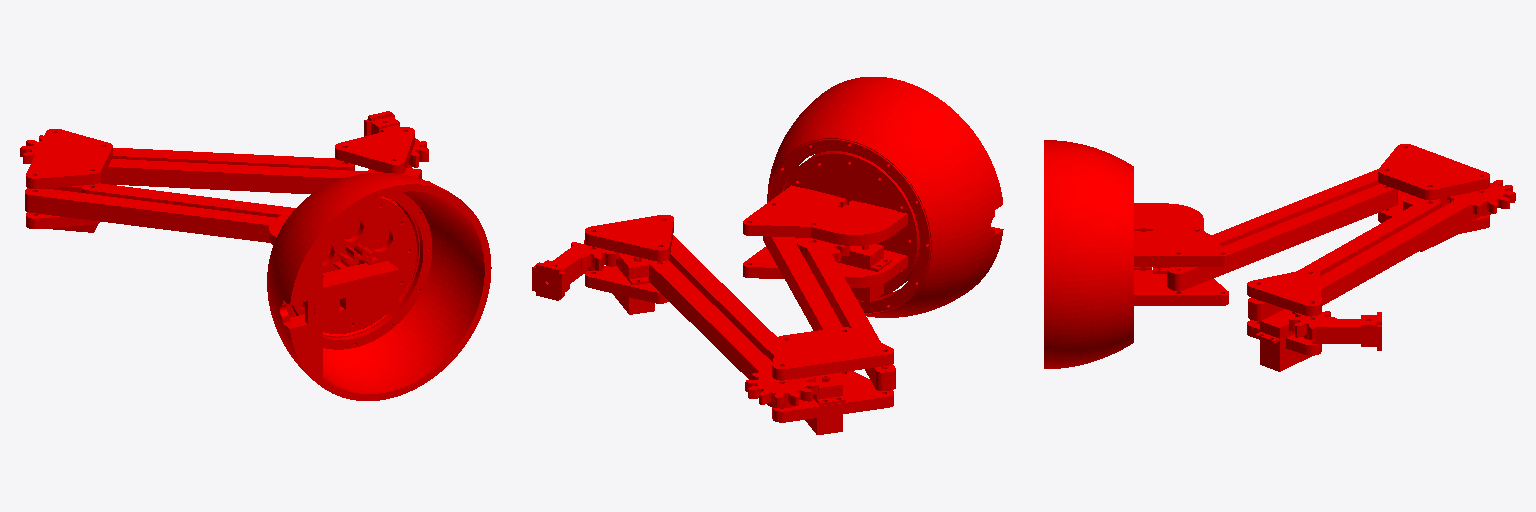
robot.urdf — da_lamp_v2:
<?xml version="1.0" ?>
<robot name="da_lamp_v2">
<link name="base_link">
  <inertial>
    <origin rpy="0 0 0" xyz="0 0 0"/>
    <mass value="0.511483"/>
    <inertia ixx="0.002019" ixy="4.5e-05" ixz="0.0" iyy="0.002695" iyz="0.0" izz="0.002207"/>
  </inertial>
  <visual>
    <origin rpy="0 0 0" xyz="0 0 0"/>
    <geometry>
      <mesh filename="package://da_lamp_description/mesh/base_link.dae"/>
    </geometry>
    <material name="silver">
      <color rgba="1 0 0 1"/>
    </material>
  </visual>
  <collision>
    <origin rpy="0 0 0" xyz="0 0 0"/>
    <geometry>
      <mesh filename="package://da_lamp_description/mesh/base_link.dae"/>
    </geometry>
  </collision>
</link>
<link name="link3__1">
  <inertial>
    <origin rpy="0 0 0" xyz="-0.044 -0.105 -0.0075"/>
    <mass value="0.035859"/>
    <inertia ixx="0.001321" ixy="0.000314" ixz="-0.0" iyy="0.000126" iyz="0.0" izz="0.001445"/>
  </inertial>
  <visual>
    <origin rpy="0 0 0" xyz="-0.044 -0.105 -0.0075"/>
    <geometry>
      <mesh filename="package://da_lamp_description/mesh/link3__1.dae"/>
    </geometry>
    <material name="silver">
      <color rgba="1 0 0 1"/>
    </material>
  </visual>
  <collision>
    <origin rpy="0 0 0" xyz="-0.044 -0.105 -0.0075"/>
    <geometry>
      <mesh filename="package://da_lamp_description/mesh/link3__1.dae"/>
    </geometry>
  </collision>
</link>
<link name="head__1">
  <inertial>
    <origin rpy="0 0 0" xyz="-0.119199 -0.266383 0.0"/>
    <mass value="0.297452"/>
    <inertia ixx="0.026468" ixy="-0.010849" ixz="-0.0" iyy="0.005133" iyz="-0.0" izz="0.031129"/>
  </inertial>
  <visual>
    <origin rpy="0 0 0" xyz="-0.119199 -0.266383 0.0"/>
    <geometry>
      <mesh filename="package://da_lamp_description/mesh/head__1.dae"/>
    </geometry>
    <material name="silver">
      <color rgba="1 0 0 1"/>
    </material>
  </visual>
  <collision>
    <origin rpy="0 0 0" xyz="-0.119199 -0.266383 0.0"/>
    <geometry>
      <mesh filename="package://da_lamp_description/mesh/head__1.dae"/>
    </geometry>
  </collision>
</link>
<link name="link6__1">
  <inertial>
    <origin rpy="0 0 0" xyz="0.083481 -0.299758 -0.0075"/>
    <mass value="0.035859"/>
    <inertia ixx="0.002048" ixy="2e-06" ixz="-0.0" iyy="0.000117" iyz="-0.0" izz="0.002165"/>
  </inertial>
  <visual>
    <origin rpy="0 0 0" xyz="0.083481 -0.299758 -0.0075"/>
    <geometry>
      <mesh filename="package://da_lamp_description/mesh/link6__1.dae"/>
    </geometry>
    <material name="silver">
      <color rgba="1 0 0 1"/>
    </material>
  </visual>
  <collision>
    <origin rpy="0 0 0" xyz="0.083481 -0.299758 -0.0075"/>
    <geometry>
      <mesh filename="package://da_lamp_description/mesh/link6__1.dae"/>
    </geometry>
  </collision>
</link>
<link name="link7__1">
  <inertial>
    <origin rpy="0 0 0" xyz="-0.081596 -0.212074 -0.0075"/>
    <mass value="0.045877"/>
    <inertia ixx="0.001795" ixy="-0.000998" ixz="4.9e-05" iyy="0.000588" iyz="2.9e-05" izz="0.002351"/>
  </inertial>
  <visual>
    <origin rpy="0 0 0" xyz="-0.081596 -0.212074 -0.0075"/>
    <geometry>
      <mesh filename="package://da_lamp_description/mesh/link7__1.dae"/>
    </geometry>
    <material name="silver">
      <color rgba="1 0 0 1"/>
    </material>
  </visual>
  <collision>
    <origin rpy="0 0 0" xyz="-0.081596 -0.212074 -0.0075"/>
    <geometry>
      <mesh filename="package://da_lamp_description/mesh/link7__1.dae"/>
    </geometry>
  </collision>
</link>
<link name="link8__1">
  <inertial>
    <origin rpy="0 0 0" xyz="-0.136642 -0.214208 -0.0075"/>
    <mass value="0.013989"/>
    <inertia ixx="0.000788" ixy="-0.000432" ixz="-1e-06" iyy="0.000242" iyz="-1e-06" izz="0.001029"/>
  </inertial>
  <visual>
    <origin rpy="0 0 0" xyz="-0.136642 -0.214208 -0.0075"/>
    <geometry>
      <mesh filename="package://da_lamp_description/mesh/link8__1.dae"/>
    </geometry>
    <material name="silver">
      <color rgba="1 0 0 1"/>
    </material>
  </visual>
  <collision>
    <origin rpy="0 0 0" xyz="-0.136642 -0.214208 -0.0075"/>
    <geometry>
      <mesh filename="package://da_lamp_description/mesh/link8__1.dae"/>
    </geometry>
  </collision>
</link>
<link name="link5__1">
  <inertial>
    <origin rpy="0 0 0" xyz="0.103434 -0.340093 -0.0075"/>
    <mass value="0.042957"/>
    <inertia ixx="0.003618" ixy="0.000442" ixz="-6e-06" iyy="0.000199" iyz="2e-06" izz="0.003815"/>
  </inertial>
  <visual>
    <origin rpy="0 0 0" xyz="0.103434 -0.340093 -0.0075"/>
    <geometry>
      <mesh filename="package://da_lamp_description/mesh/link5__1.dae"/>
    </geometry>
    <material name="silver">
      <color rgba="1 0 0 1"/>
    </material>
  </visual>
  <collision>
    <origin rpy="0 0 0" xyz="0.103434 -0.340093 -0.0075"/>
    <geometry>
      <mesh filename="package://da_lamp_description/mesh/link5__1.dae"/>
    </geometry>
  </collision>
</link>
<link name="link4__1">
  <inertial>
    <origin rpy="0 0 0" xyz="0.155752 -0.280622 -0.0075"/>
    <mass value="0.06222"/>
    <inertia ixx="0.005587" ixy="0.002132" ixz="6.9e-05" iyy="0.000861" iyz="-2.6e-05" izz="0.006407"/>
  </inertial>
  <visual>
    <origin rpy="0 0 0" xyz="0.155752 -0.280622 -0.0075"/>
    <geometry>
      <mesh filename="package://da_lamp_description/mesh/link4__1.dae"/>
    </geometry>
    <material name="silver">
      <color rgba="1 0 0 1"/>
    </material>
  </visual>
  <collision>
    <origin rpy="0 0 0" xyz="0.155752 -0.280622 -0.0075"/>
    <geometry>
      <mesh filename="package://da_lamp_description/mesh/link4__1.dae"/>
    </geometry>
  </collision>
</link>
<link name="link1__1">
  <inertial>
    <origin rpy="0 0 0" xyz="0.0 -0.07 0.0"/>
    <mass value="0.151477"/>
    <inertia ixx="0.001208" ixy="-1.3e-05" ixz="3e-05" iyy="0.000196" iyz="-6e-06" izz="0.00124"/>
  </inertial>
  <visual>
    <origin rpy="0 0 0" xyz="0.0 -0.07 0.0"/>
    <geometry>
      <mesh filename="package://da_lamp_description/mesh/link1__1.dae"/>
    </geometry>
    <material name="silver">
      <color rgba="1 0 0 1"/>
    </material>
  </visual>
  <collision>
    <origin rpy="0 0 0" xyz="0.0 -0.07 0.0"/>
    <geometry>
      <mesh filename="package://da_lamp_description/mesh/link1__1.dae"/>
    </geometry>
  </collision>
</link>
<link name="link2__1">
  <inertial>
    <origin rpy="0 0 0" xyz="-0.001452 -0.119651 -0.0075"/>
    <mass value="0.040954"/>
    <inertia ixx="0.001588" ixy="0.000637" ixz="-1e-06" iyy="0.000297" iyz="0.0" izz="0.001884"/>
  </inertial>
  <visual>
    <origin rpy="0 0 0" xyz="-0.001452 -0.119651 -0.0075"/>
    <geometry>
      <mesh filename="package://da_lamp_description/mesh/link2__1.dae"/>
    </geometry>
    <material name="silver">
      <color rgba="1 0 0 1"/>
    </material>
  </visual>
  <collision>
    <origin rpy="0 0 0" xyz="-0.001452 -0.119651 -0.0075"/>
    <geometry>
      <mesh filename="package://da_lamp_description/mesh/link2__1.dae"/>
    </geometry>
  </collision>
</link>
<joint name="Rev2" type="continuous">
  <origin rpy="0 0 0" xyz="0.044 0.035 0.0075"/>
  <parent link="link1__1"/>
  <child link="link3__1"/>
  <axis xyz="0.0 0.0 0.01"/>
</joint>
<joint name="Rev11" type="continuous">
  <origin rpy="0 0 0" xyz="-0.017443 0.052175 -0.0075"/>
  <parent link="link8__1"/>
  <child link="head__1"/>
  <axis xyz="0.004434 -0.008963 0.0"/>
</joint>
<joint name="Rev7" type="continuous">
  <origin rpy="0 0 0" xyz="0.072271 0.019136 0.0"/>
  <parent link="link4__1"/>
  <child link="link6__1"/>
  <axis xyz="0.0 0.0 0.01"/>
</joint>
<joint name="Rev8" type="continuous">
  <origin rpy="0 0 0" xyz="0.18503 -0.128019 0.0"/>
  <parent link="link5__1"/>
  <child link="link7__1"/>
  <axis xyz="-0.0 -0.0 -0.01"/>
</joint>
<joint name="Rev10" type="continuous">
  <origin rpy="0 0 0" xyz="0.055046 0.002134 0.0"/>
  <parent link="link7__1"/>
  <child link="link8__1"/>
  <axis xyz="0.0 -0.0 0.01"/>
</joint>
<joint name="Rev6" type="continuous">
  <origin rpy="0 0 0" xyz="0.052318 0.059471 0.0"/>
  <parent link="link4__1"/>
  <child link="link5__1"/>
  <axis xyz="0.0 0.0 0.01"/>
</joint>
<joint name="Rev4" type="continuous">
  <origin rpy="0 0 0" xyz="-0.157204 0.160971 0.0"/>
  <parent link="link2__1"/>
  <child link="link4__1"/>
  <axis xyz="-0.0 -0.0 -0.01"/>
</joint>
<joint name="Rev1" type="continuous">
  <origin rpy="0 0 0" xyz="0.0 0.07 0.0"/>
  <parent link="base_link"/>
  <child link="link1__1"/>
  <axis xyz="0.0 0.01 0.0"/>
</joint>
<joint name="Rev3" type="continuous">
  <origin rpy="0 0 0" xyz="0.001452 0.049651 0.0075"/>
  <parent link="link1__1"/>
  <child link="link2__1"/>
  <axis xyz="0.0 0.0 0.01"/>
</joint>
</robot>

--- Render facts (derived) ---
Views: 3 orthographic renders of the robot side by side, from view 1: azimuth 30°, elevation 25°; view 2: azimuth 150°, elevation 25°; view 3: azimuth 270°, elevation 25°.
Model da_lamp_v2 with 10 links and 9 joints (9 continuous), rooted at base_link, posed every joint at zero.
Links seen in each view (by area): view 1: base_link, link2__1, link1__1, link6__1, link4__1, link5__1, link7__1, link3__1, link8__1; view 2: base_link, link1__1, link4__1, link5__1, link7__1, link2__1, link6__1, link3__1, link8__1; view 3: base_link, link1__1, link5__1, link3__1, link4__1, link7__1, link6__1, link8__1, link2__1.
Boxes of the visible links, x1,y1,x2,y2 form: base_link: [267, 173, 491, 400]; link2__1: [25, 188, 274, 242]; link1__1: [269, 196, 416, 333]; link6__1: [100, 159, 402, 197]; link4__1: [26, 129, 112, 232]; link5__1: [20, 135, 354, 170]; link7__1: [335, 127, 429, 206]; link3__1: [82, 183, 295, 217]; link8__1: [364, 111, 428, 167]; base_link: [767, 77, 1003, 317]; link1__1: [743, 151, 919, 302]; link4__1: [772, 327, 893, 434]; link5__1: [649, 260, 818, 408]; link7__1: [585, 215, 673, 314]; link2__1: [797, 238, 895, 390]; link6__1: [669, 235, 777, 361]; link3__1: [763, 236, 842, 330]; link8__1: [532, 240, 618, 300]; base_link: [1044, 140, 1133, 368]; link1__1: [1134, 203, 1228, 305]; link5__1: [1321, 180, 1515, 305]; link3__1: [1167, 184, 1397, 291]; link4__1: [1378, 144, 1489, 251]; link7__1: [1247, 269, 1321, 371]; link6__1: [1248, 199, 1440, 321]; link8__1: [1289, 311, 1381, 350]; link2__1: [1207, 169, 1380, 246].
Bounding box of the posed robot: 316 × 370 × 180 m (x, y, z).
9 mesh visuals loaded from 10 distinct referenced files (9 Collada DAE); not drawn: 1 (file found but could not be loaded).